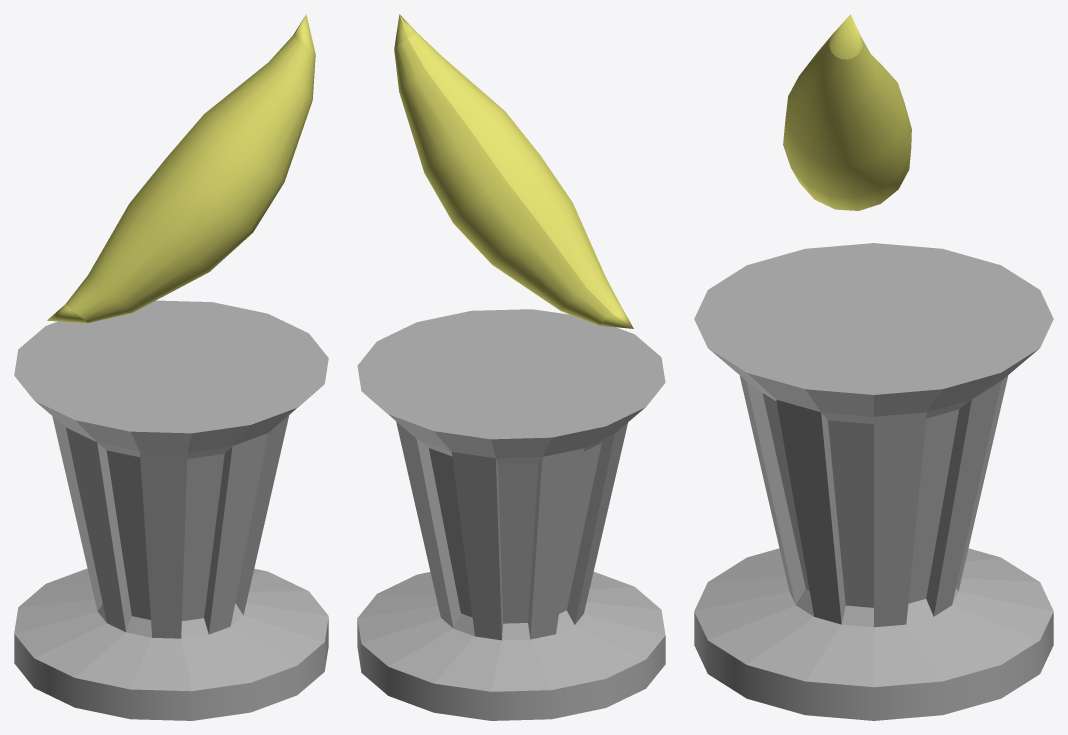
File: Relic.fbx
3 views of the same model, side by side, from view 1: azimuth 30°, elevation 25°; view 2: azimuth 150°, elevation 25°; view 3: azimuth 270°, elevation 25° (orthographic). The views are drawn at different scales.
Parts seen in each view (by area): view 1: pStand, pRelic; view 2: pStand, pRelic; view 3: pStand, pRelic.
Boxes of the visible parts, x1=… form: pStand: x1=14, y1=300, x2=328, y2=720; pRelic: x1=47, y1=14, x2=315, y2=323; pStand: x1=357, y1=309, x2=665, y2=720; pRelic: x1=394, y1=14, x2=633, y2=328; pStand: x1=694, y1=243, x2=1053, y2=720; pRelic: x1=783, y1=14, x2=911, y2=210.
Bounding box in the file's own units: 0.00646 × 0.0139 × 0.00646.
